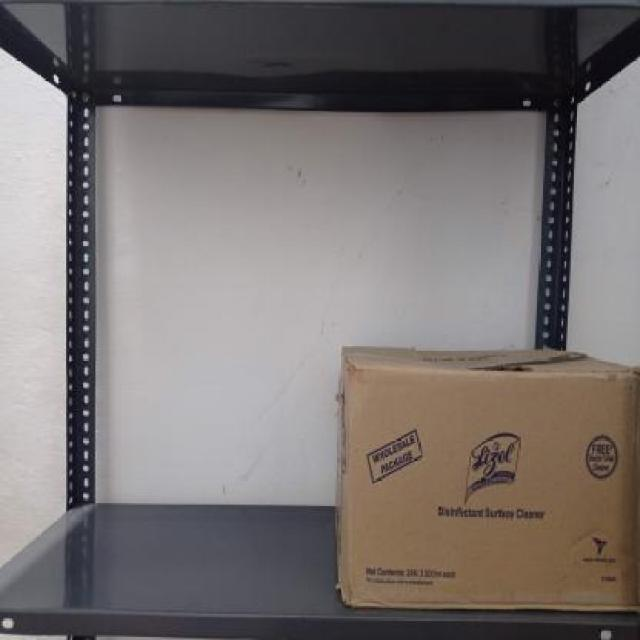box: (341, 363, 640, 614)
